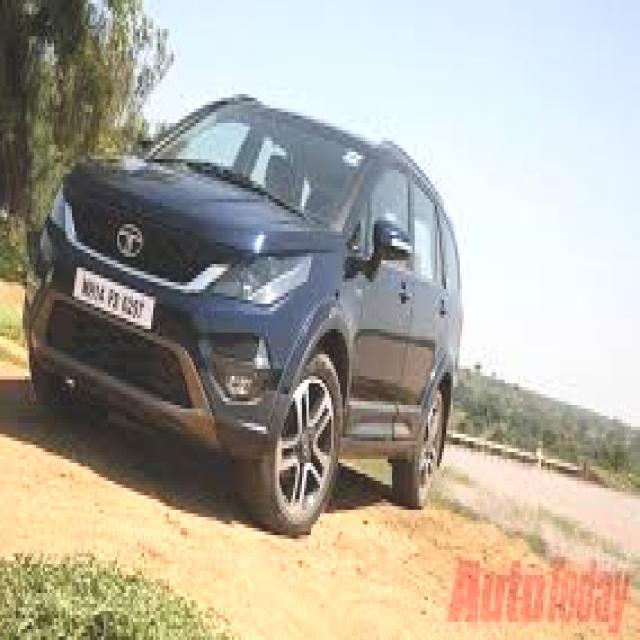SUV: (31, 91, 463, 534)
